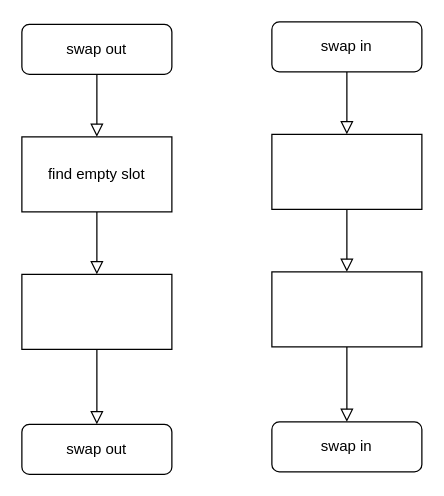
The diagram is 444 pixels wide and 496 high, and some of its shapes have lost their labels. The shapes that lost their labels are listed below. From the top down, each one's centre as x and y in pixels, then its label:
At [346,171]: "block read".
At [96,311]: "block write".
At [346,309]: "release slot".
